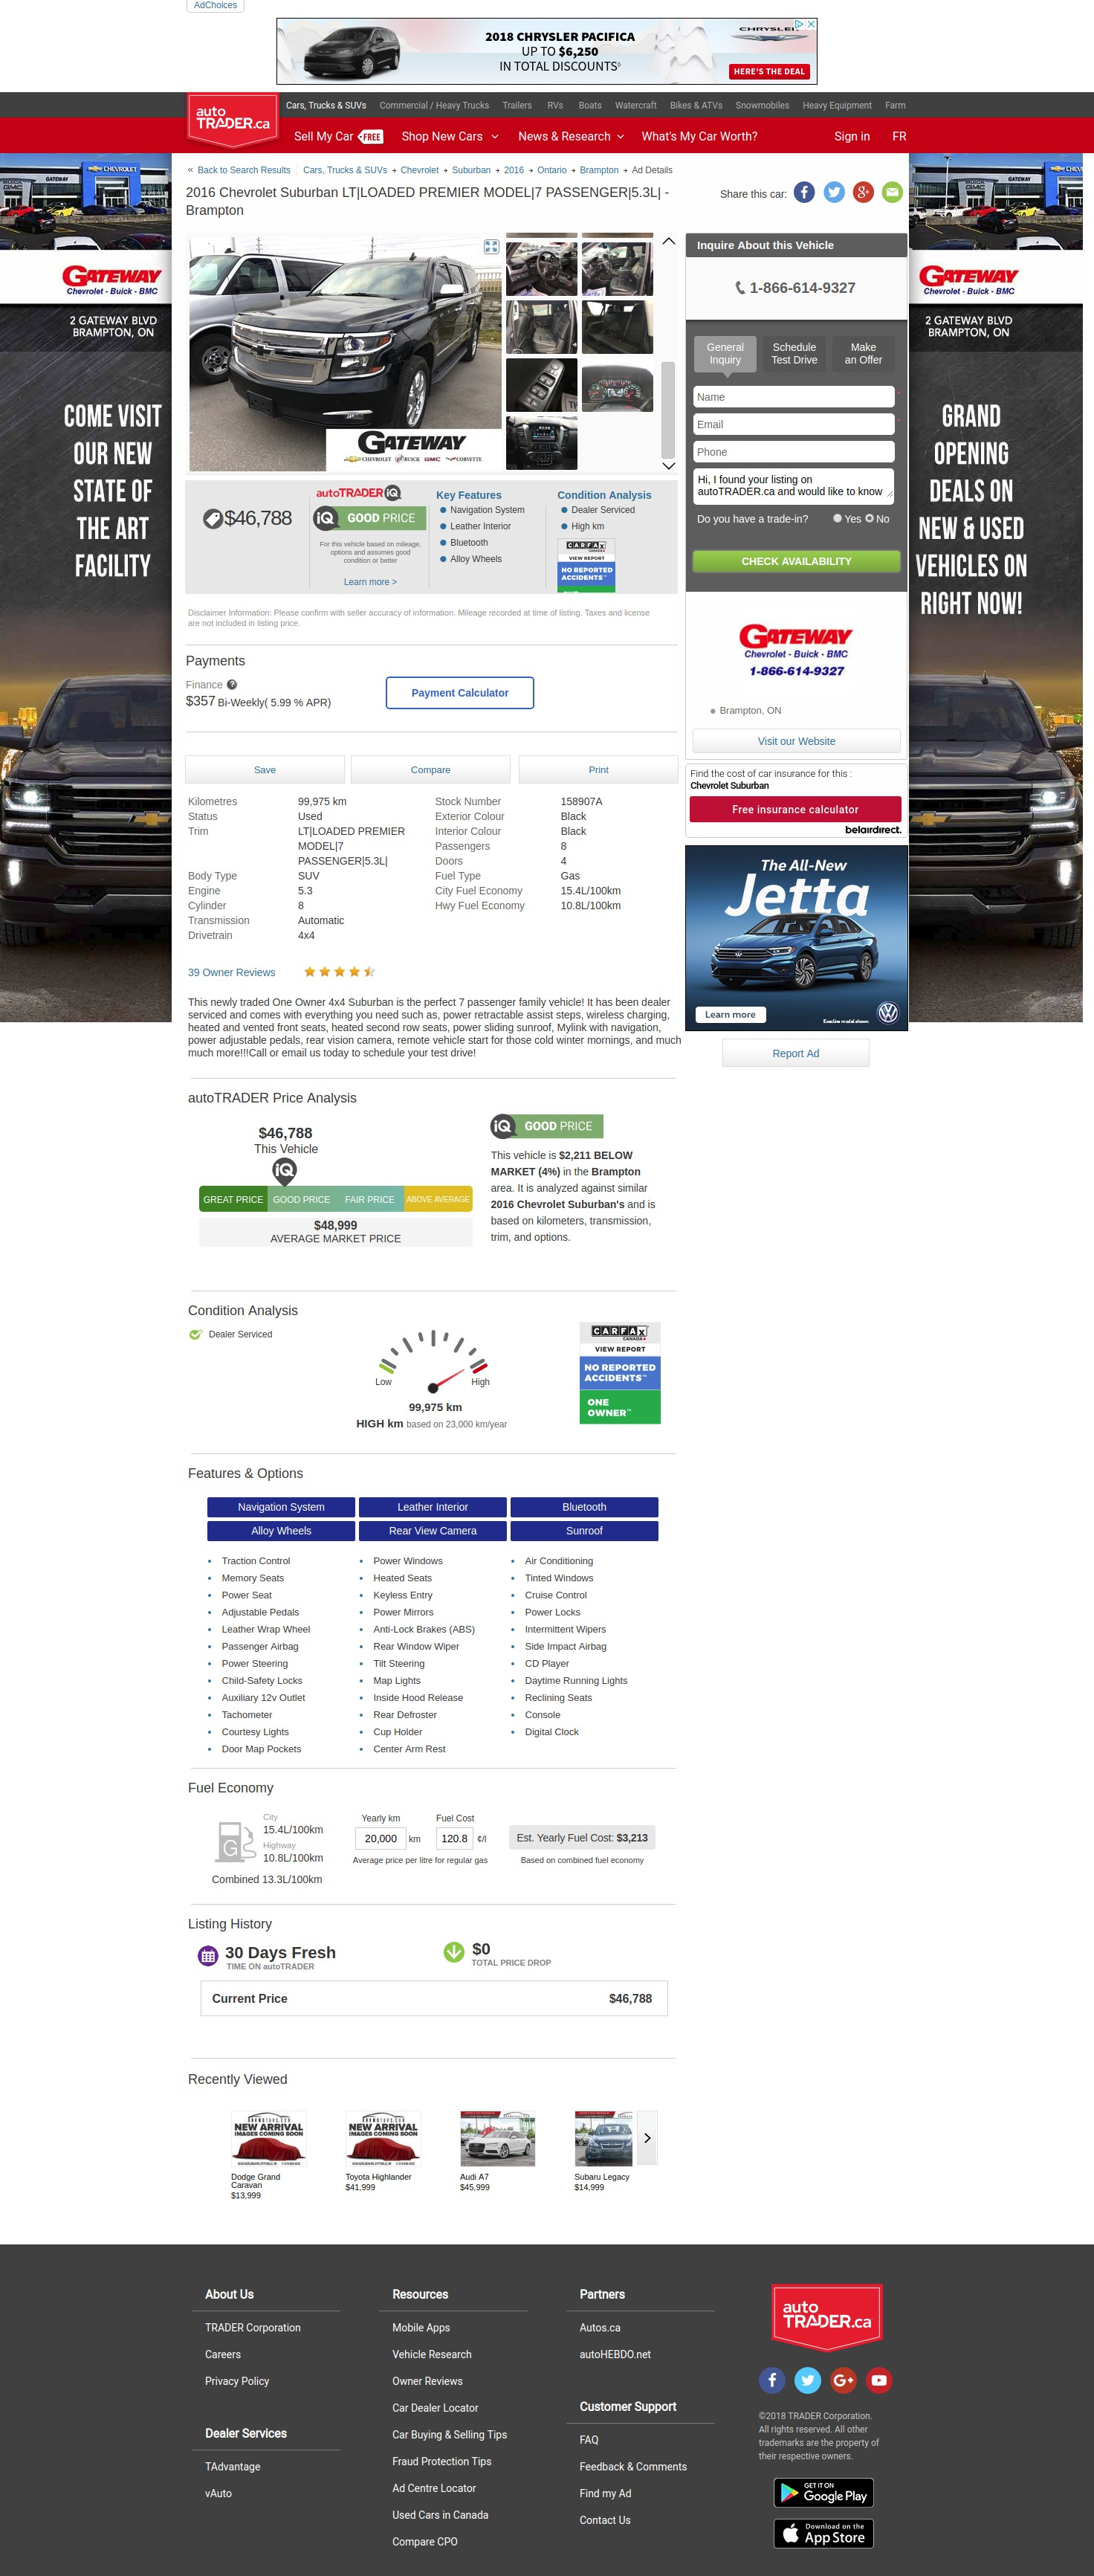car: (662, 462, 677, 471)
